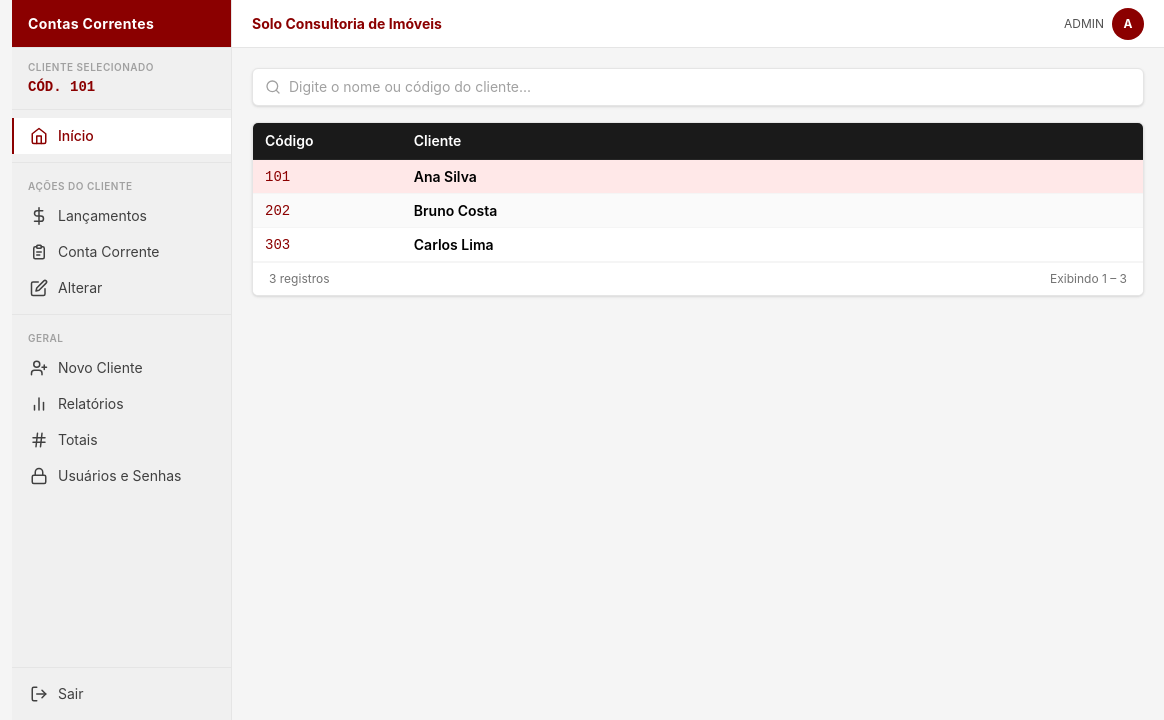
Test: Principal › seleção no grid atualiza header dinâmico (RN11)
The image size is (1164, 720).
Expected: the text "CÓD. 101" is shown, left=28, top=79, right=95, bottom=95
// Clica na linha do Carlos Lima (código 303) — use first match
Click the text "Carlos Lima". click: click(454, 244)
box: left=414, top=236, right=494, bottom=252
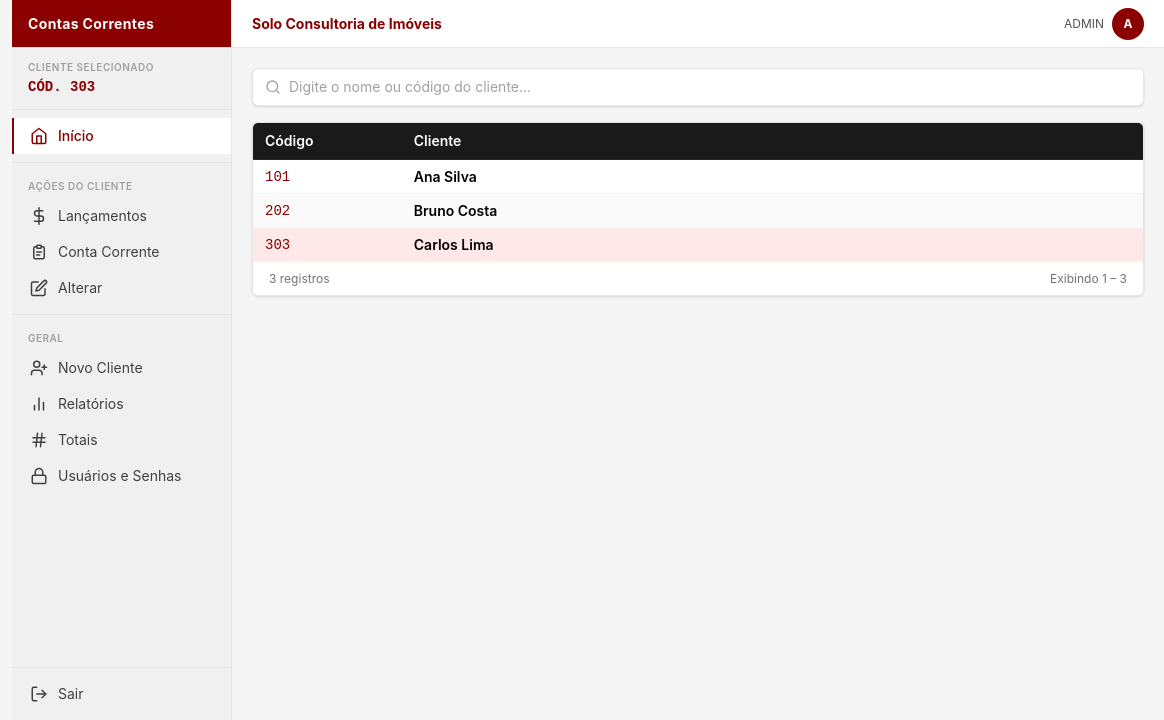
Expected: the text "CÓD. 303" is shown, left=28, top=79, right=95, bottom=95
